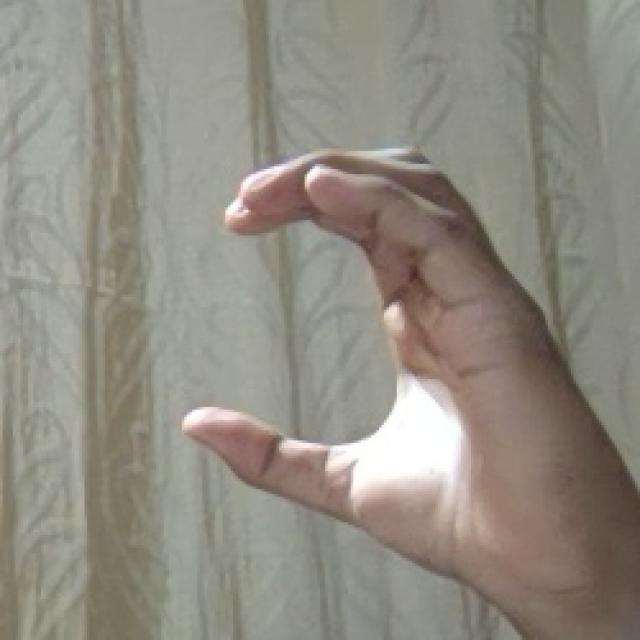Alphabet-C: (184, 148, 640, 640)
